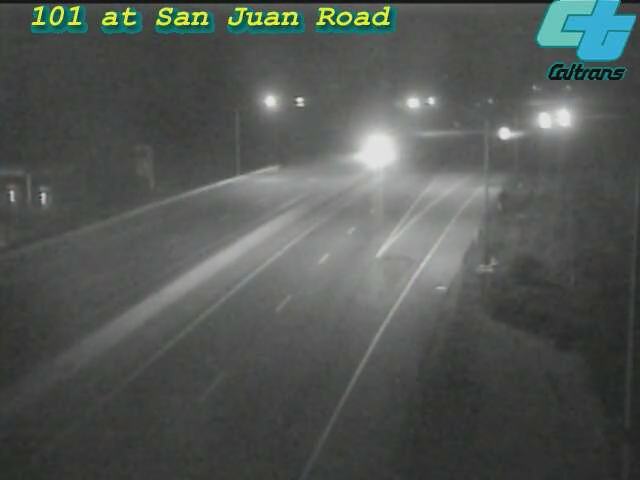vehicle: (349, 124, 399, 174), (478, 109, 528, 159), (519, 95, 569, 145), (538, 91, 588, 141)
